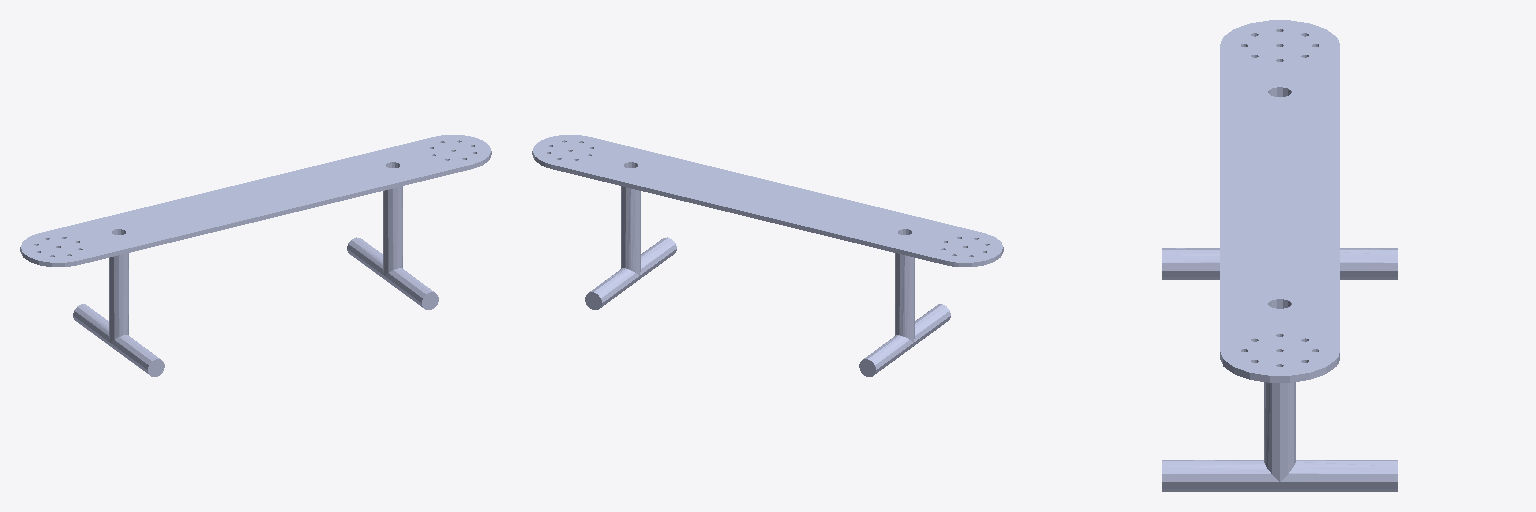
URDF robot description (path_marker):
<?xml version="1.0" encoding="utf-8"?>
<!-- This URDF was automatically created by SolidWorks to URDF Exporter! Originally created by Stephen Brawner (brawner@gmail.com) 
     Commit Version: 1.6.0-4-g7f85cfe  Build Version: 1.6.7995.38578
     For more information, please see http://wiki.ros.org/sw_urdf_exporter -->
<robot
  name="path_marker">
  <link
    name="base_link">
    <inertial>
      <origin
        xyz="0.4572 -0.075291 8.9953E-08"
        rpy="0 0 0" />
      <mass
        value="2.538" />
      <inertia
        ixx="0.03791"
        ixy="2.4647E-07"
        ixz="1.9347E-07"
        iyy="0.24489"
        iyz="-8.4438E-08"
        izz="0.26552" />
    </inertial>
    <visual>
      <origin
        xyz="0 0 0"
        rpy="0 0 0" />
      <geometry>
        <mesh
          filename="package://path_marker/meshes/base_link.STL" />
      </geometry>
      <material
        name="">
        <color
          rgba="0.79216 0.81961 0.93333 1" />
      </material>
    </visual>
    <collision>
      <origin
        xyz="0 0 0"
        rpy="0 0 0" />
      <geometry>
        <mesh
          filename="package://path_marker/meshes/base_link.STL" />
      </geometry>
    </collision>
  </link>
</robot>

--- What the picture shows (computed from the rendered views, not written in the file) ---
The picture shows the robot from 3 angles, left to right: view 1: azimuth 30°, elevation 25°; view 2: azimuth 150°, elevation 25°; view 3: azimuth 270°, elevation 25°; orthographic projection.
Robot: path_marker — 1 links, 0 joints (none); root link base_link; default pose: every joint at zero.
Links seen in each view (by area): view 1: base_link; view 2: base_link; view 3: base_link.
Boxes of the visible links, left/top/right/bottom form: base_link: left=20, top=135, right=491, bottom=376; base_link: left=532, top=135, right=1003, bottom=376; base_link: left=1162, top=20, right=1397, bottom=491.
Bounding box of the posed robot: 1.06 × 0.3 × 0.26 m (x, y, z).
Meshes: 1 distinct files referenced, 1 mesh visuals loaded (1 binary STL).
